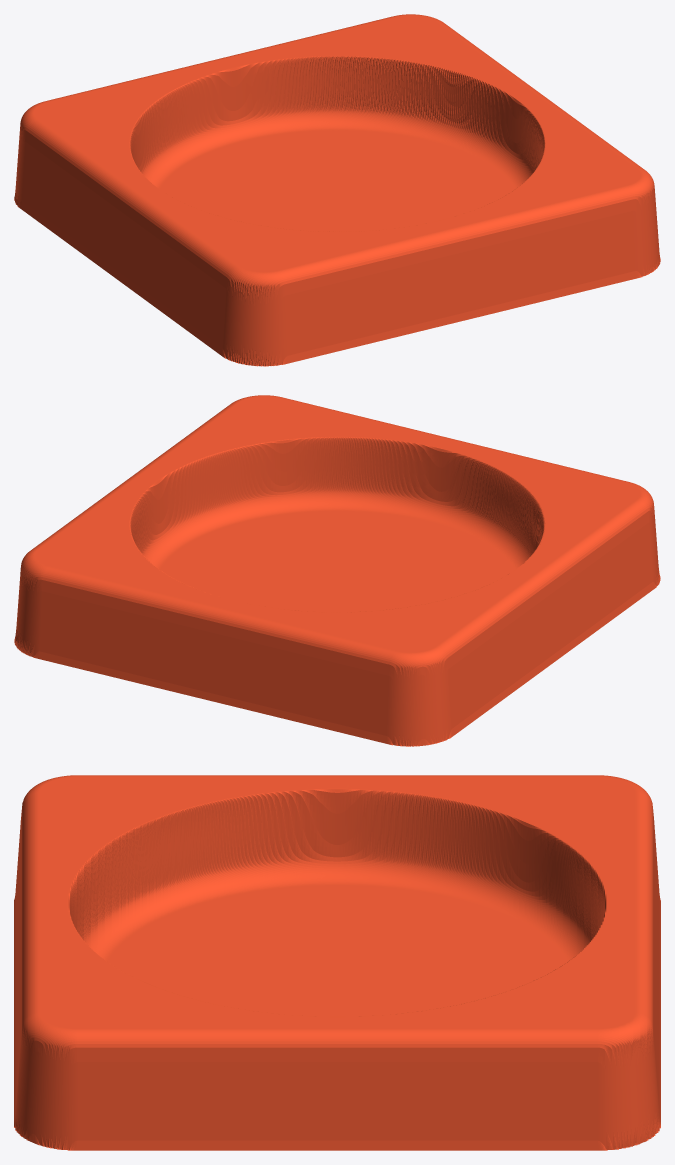
Rendered from mold.glb.
3 views of the same model, one above another, from view 1: azimuth 30°, elevation 25°; view 2: azimuth 150°, elevation 25°; view 3: azimuth 270°, elevation 25° (orthographic). The views are drawn at different scales.
Parts seen in each view (by area): view 1: geometry_0; view 2: geometry_0; view 3: geometry_0.
Part boxes in pixels (bbox=[...]): geometry_0: bbox=[14, 14, 660, 366]; geometry_0: bbox=[14, 395, 660, 746]; geometry_0: bbox=[14, 775, 660, 1150].
Bounding box in the file's own units: 0.0924 × 0.0175 × 0.0924.
